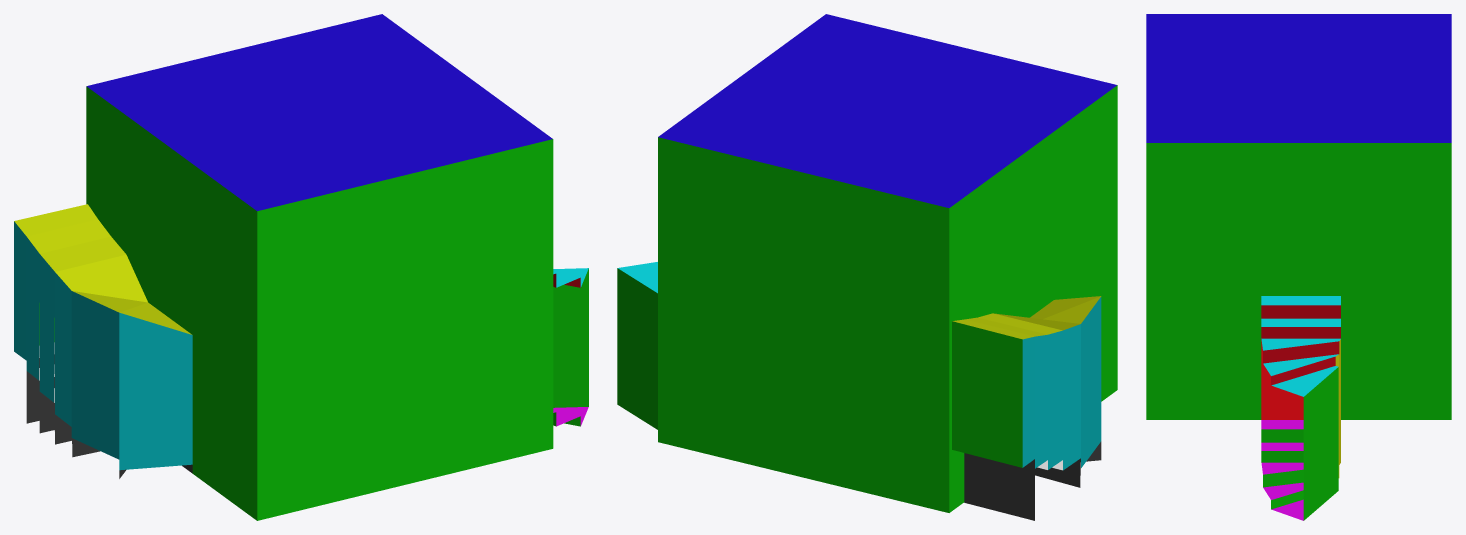
The model's file is PuzzleLevels.fbx.
3 views of the same model, side by side, from view 1: azimuth 30°, elevation 25°; view 2: azimuth 150°, elevation 25°; view 3: azimuth 270°, elevation 25° (orthographic). The views are drawn at different scales.
Parts seen in each view (by area): view 1: Cube; view 2: Cube; view 3: Cube.
Part boxes in pixels (x1,y1,x2,y2): Cube: [14, 14, 588, 520]; Cube: [617, 14, 1117, 520]; Cube: [1146, 14, 1451, 520].
Size of the model in its own units: 1332 by 934 by 798.
